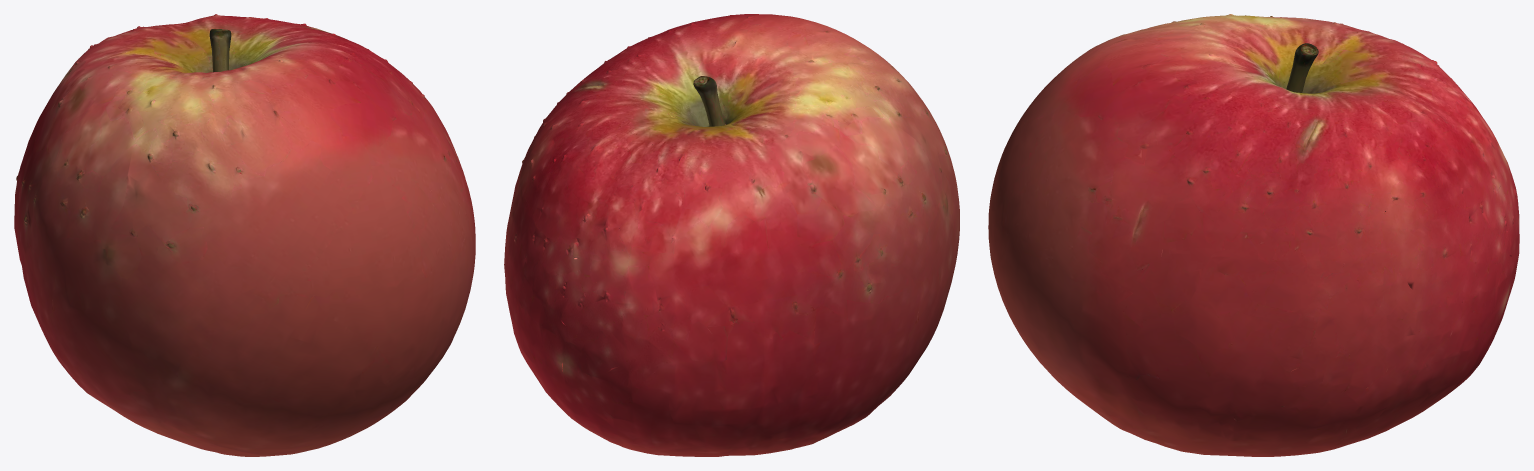
Rendered from kitchen-apple-03.glb.
3 renders of one model, left to right at view 1: azimuth 30°, elevation 25°; view 2: azimuth 150°, elevation 25°; view 3: azimuth 270°, elevation 25°, orthographic. The views are drawn at different scales.
Visible parts, largest first — view 1: mesh_node; view 2: mesh_node; view 3: mesh_node.
Boxes of the visible parts, x1=… form: mesh_node: x1=14, y1=14, x2=475, y2=456; mesh_node: x1=504, y1=14, x2=959, y2=456; mesh_node: x1=988, y1=14, x2=1519, y2=456.
Size of the model in its own units: 1.89 by 1.78 by 2.23.
Materials: 1 (1 with a texture image).
